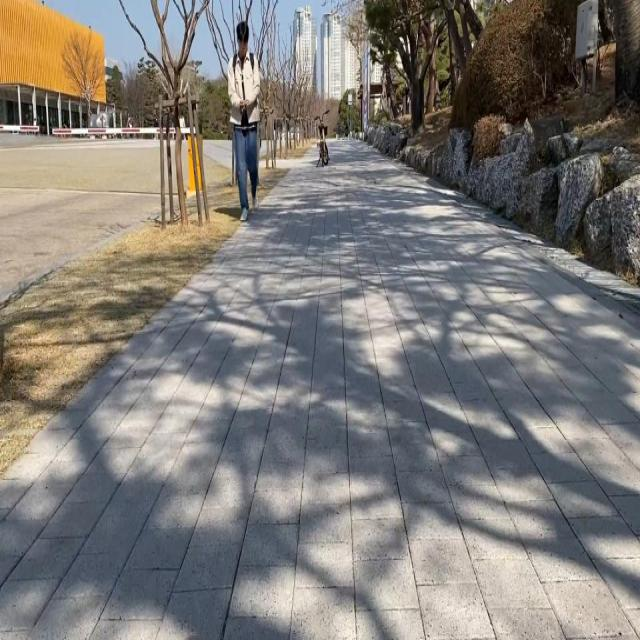sidewalk: (0, 140, 640, 638)
